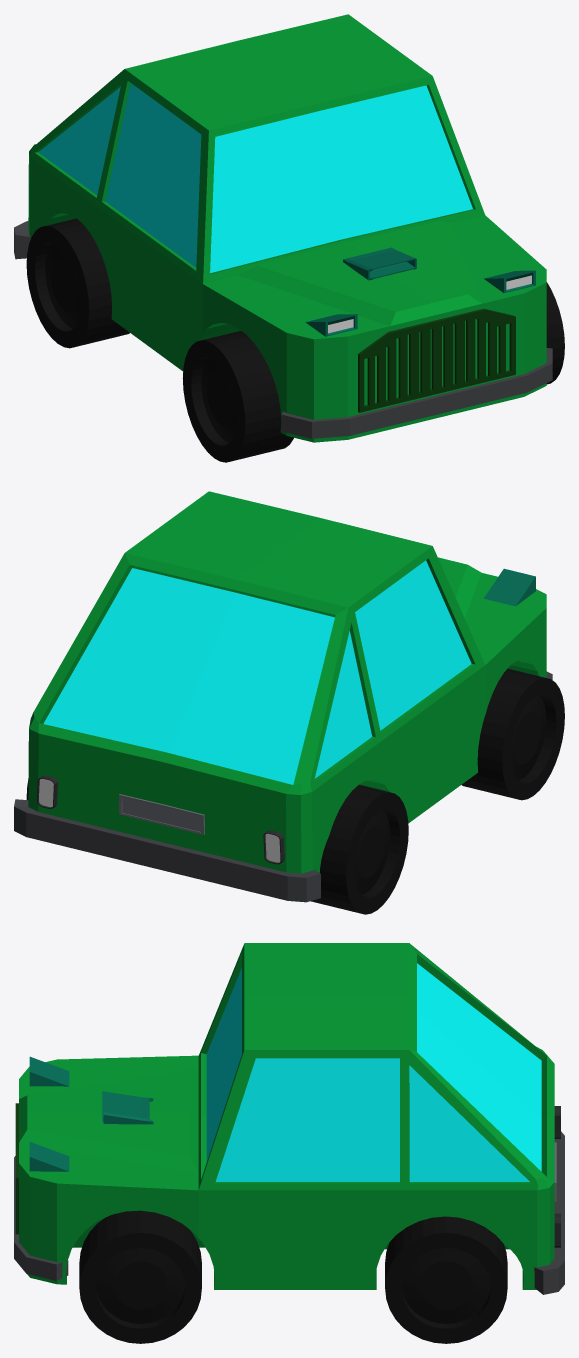
Rendered from carSet1.fbx.
The picture shows the model from 3 angles, top to bottom: view 1: azimuth 30°, elevation 25°; view 2: azimuth 150°, elevation 25°; view 3: azimuth 270°, elevation 25°; orthographic projection. The views are drawn at different scales.
Visible parts, largest first — view 1: body, fornt wheel, back wheels, fornt wheel.001; view 2: body, fornt wheel, back wheels; view 3: body, fornt wheel.001, back wheels.
Boxes of the visible parts, box(x1,y1,x2,y2) form: body: box(14, 14, 552, 442); fornt wheel: box(182, 331, 293, 462); back wheels: box(26, 218, 129, 348); fornt wheel.001: box(546, 282, 564, 384); body: box(14, 491, 552, 902); fornt wheel: box(461, 668, 564, 800); back wheels: box(26, 778, 408, 914); body: box(14, 943, 564, 1294); fornt wheel.001: box(79, 1210, 201, 1343); back wheels: box(385, 1216, 507, 1343).
Bounding box in the file's own units: 438 × 364 × 668.
